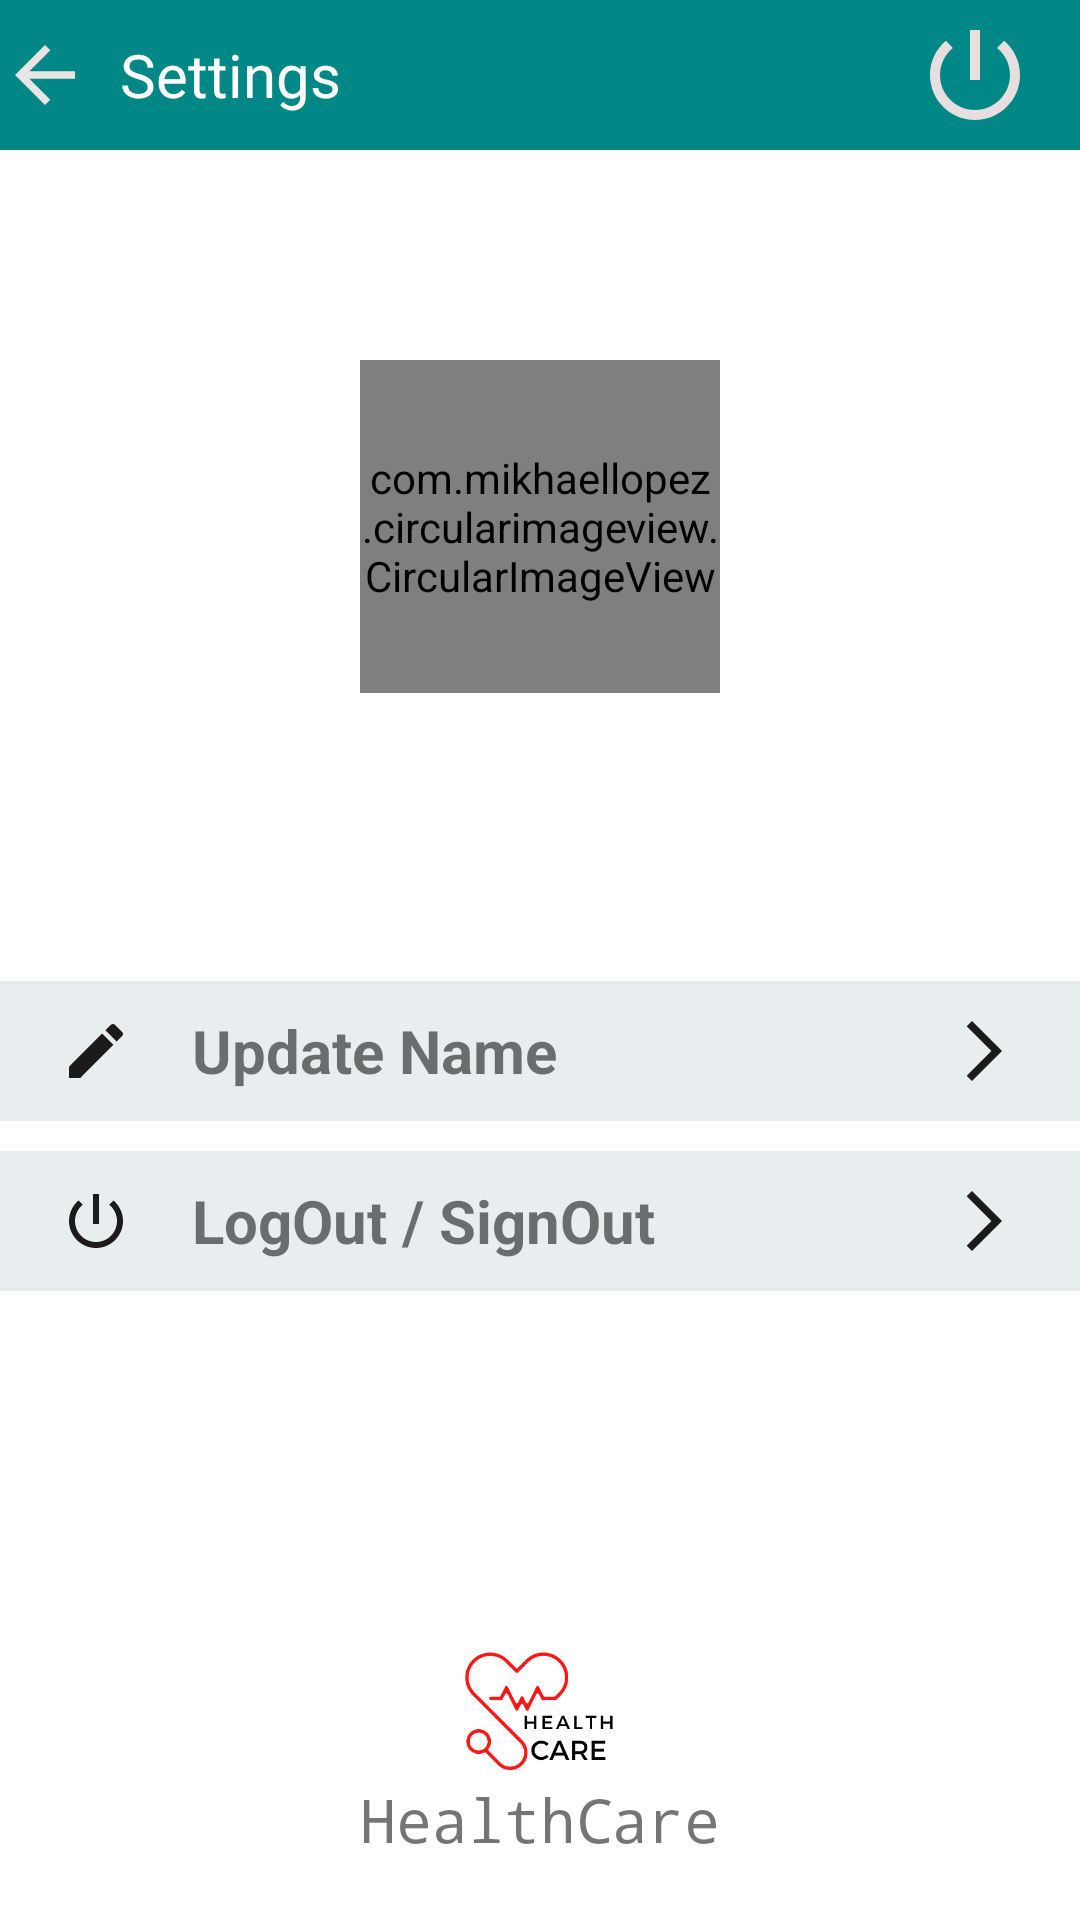

Screen size 1080px×1920px. Icon name, then its box in pixels as [x1, y1, x2, y2]:
back: [15, 45, 75, 105]
